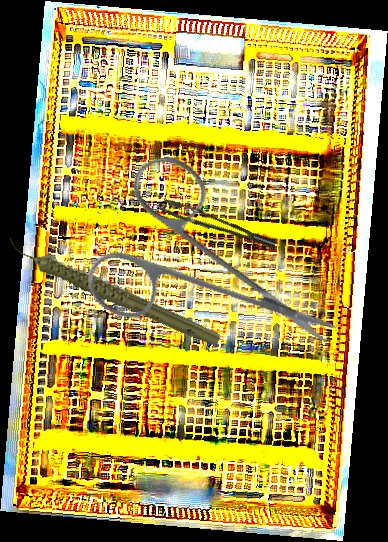Handpiece: (3, 193, 225, 387)
Iris Scissors: (59, 124, 339, 404)
Tissue Forceps: (159, 187, 277, 264)
